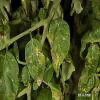Tomato Septoria leaf spot: (49, 19, 72, 80), (24, 39, 47, 86), (0, 47, 20, 100), (47, 80, 66, 99), (87, 42, 99, 71), (72, 1, 85, 16)
